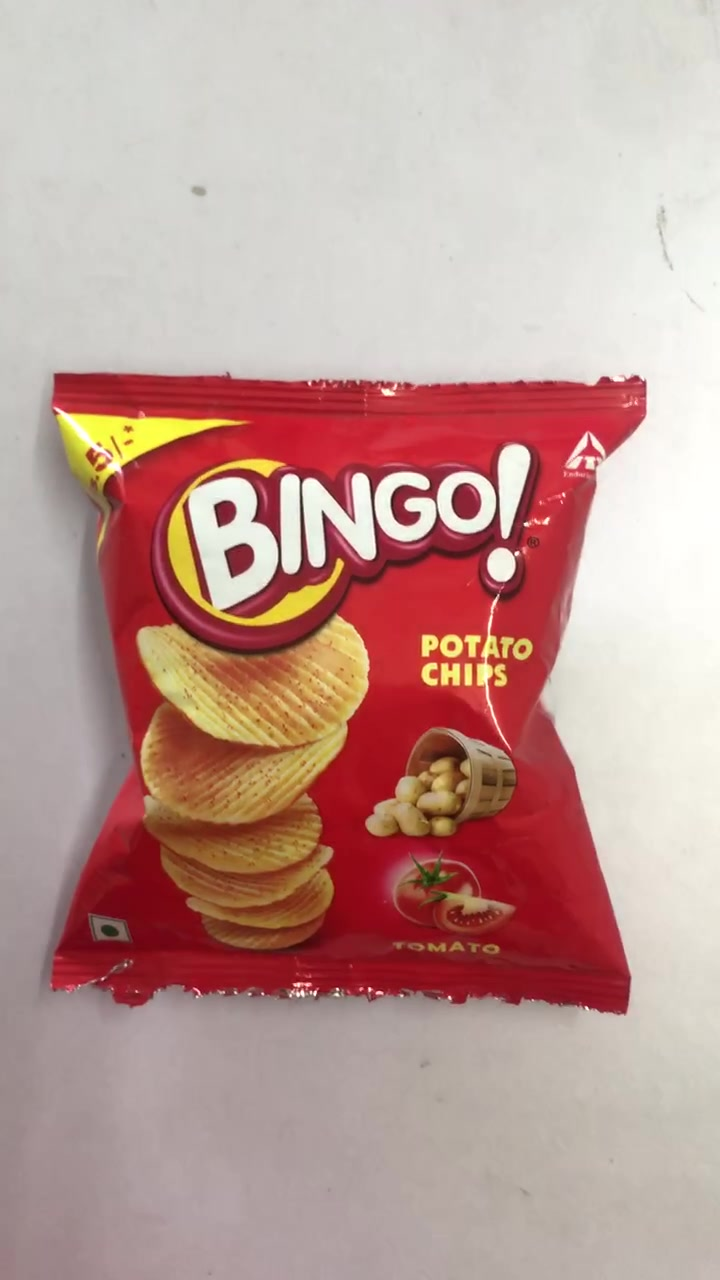Bingo: (49, 368, 630, 1006)
